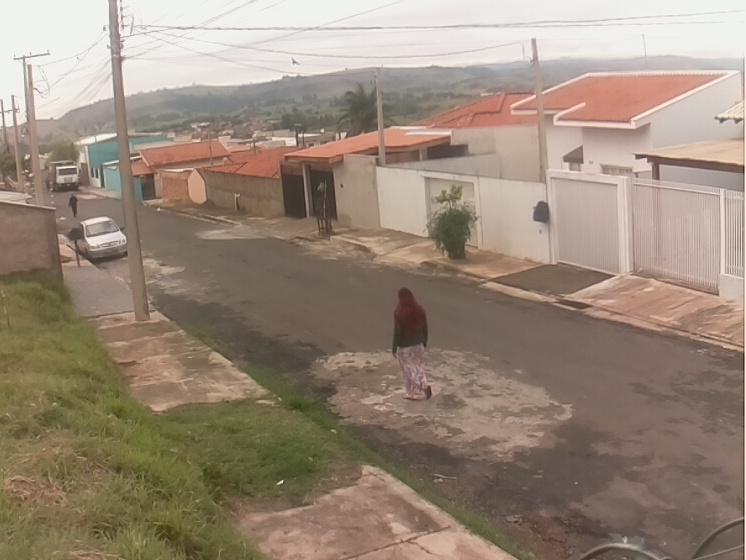person: (392, 288, 433, 402), (68, 193, 79, 218)
